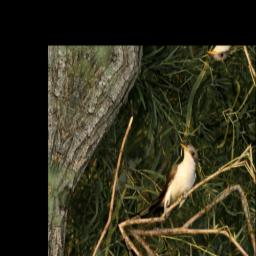Cuckoo: (127, 126, 206, 247)
